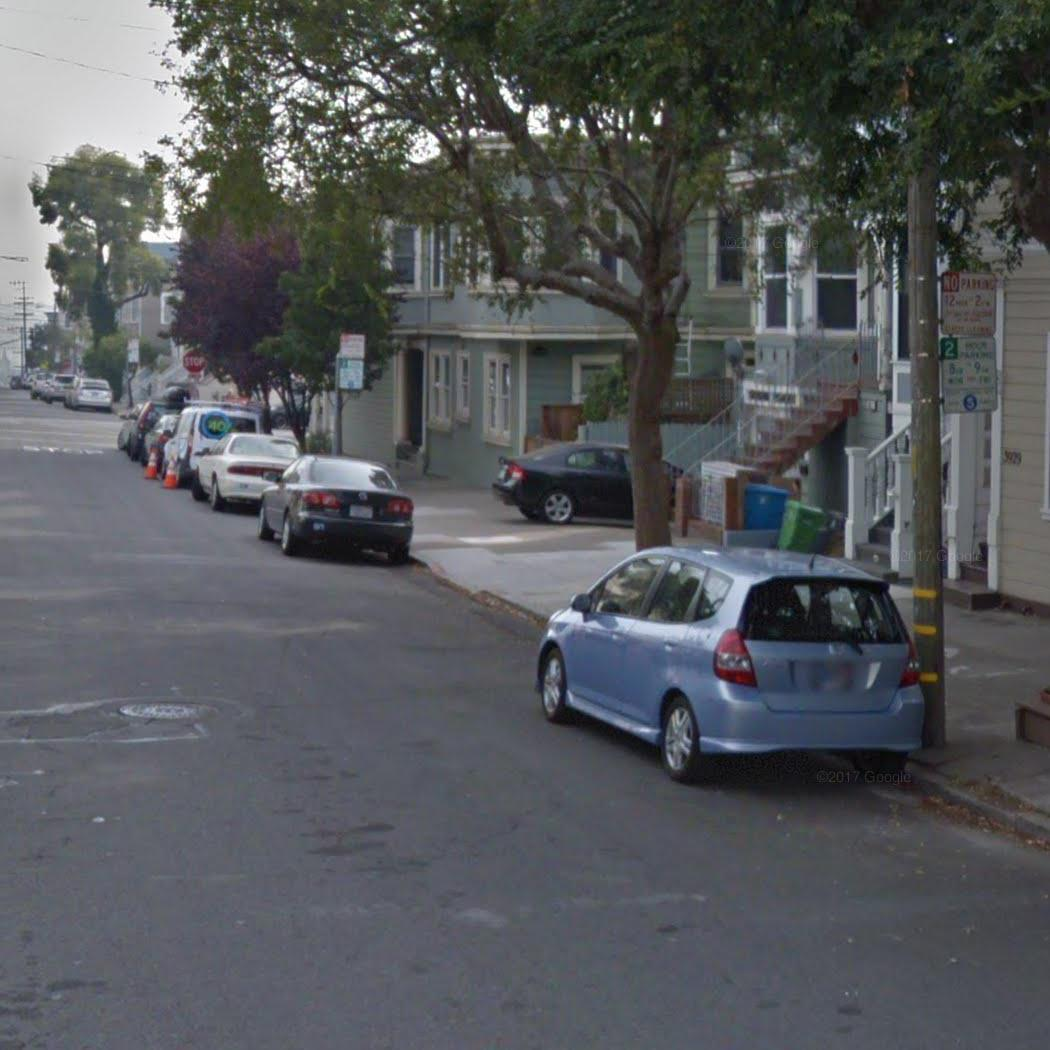2 Hour Parking: (340, 361, 365, 389)
No Parking: (338, 332, 364, 359)
